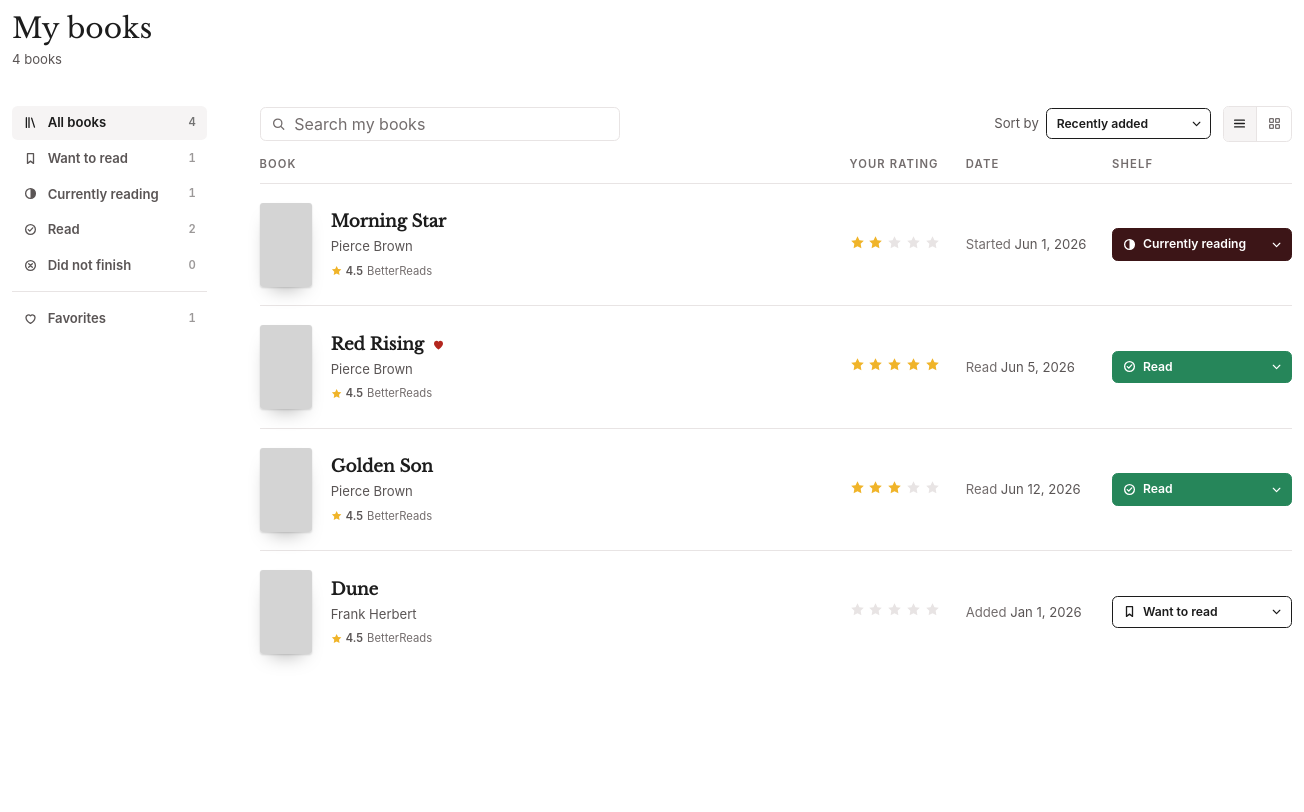
Test: ShelfList › should restore the old rating when saving fails
This screenshot has width=1304, height=812.
Expected: the link "Dune" is shown, top-left (331, 579), bottom-right (378, 600)
Click the button named "Rate 5 of 5" in the row of "Jun 12, 2026" at (932, 487), box top-left (924, 480), bottom-right (940, 495)
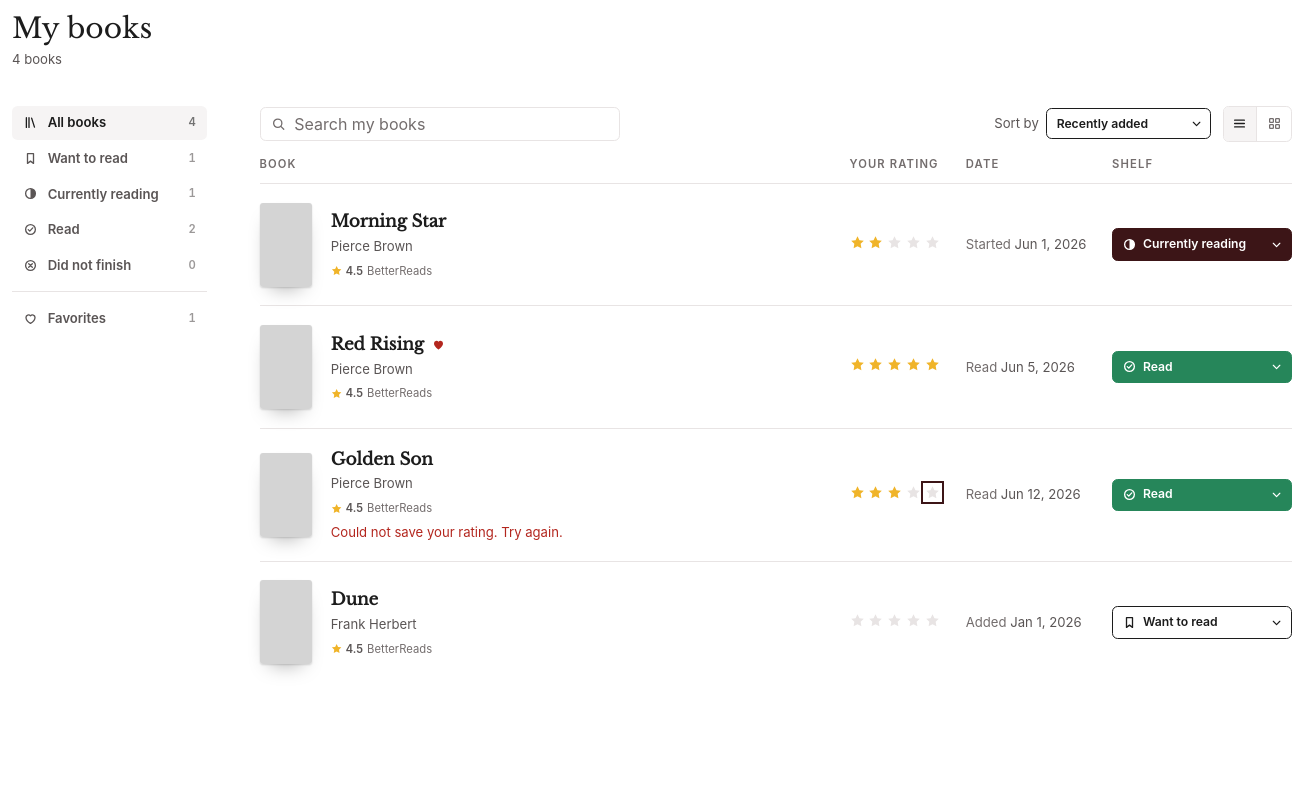
Expected: the text "Could not save your rating. Try again." is shown, top-left (331, 524), bottom-right (563, 540)
